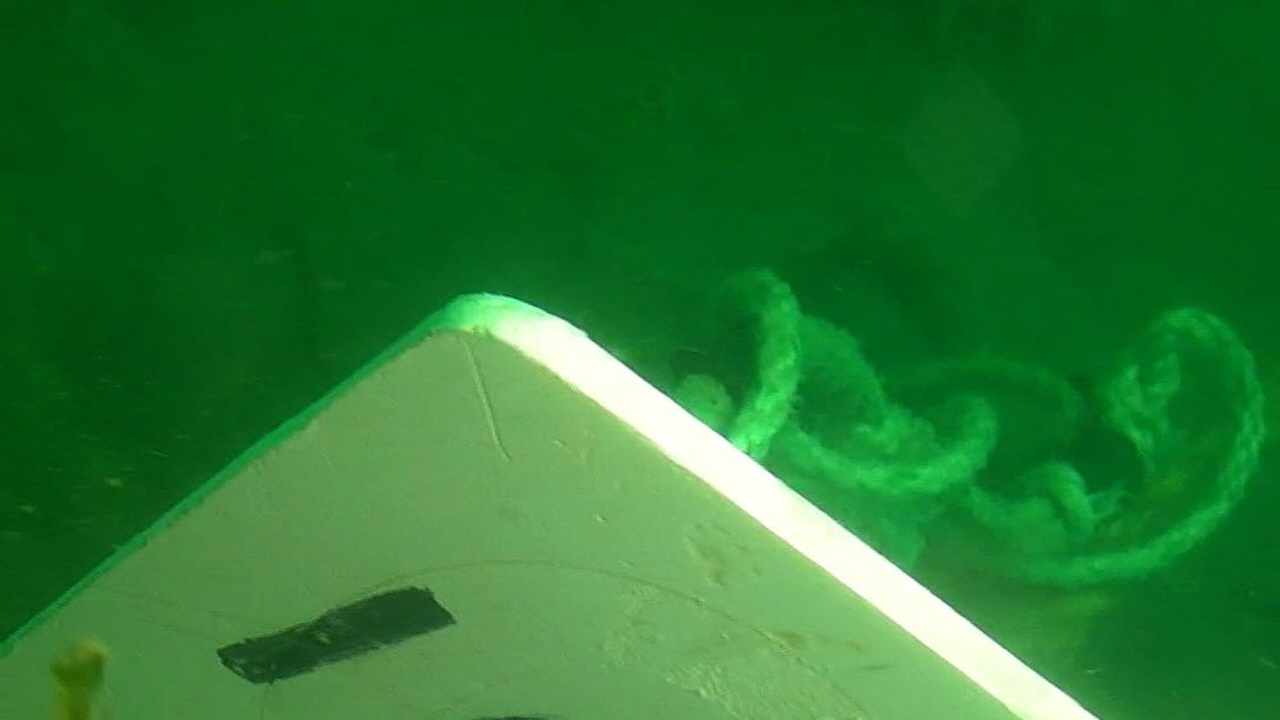bundle of ropes: (670, 264, 1268, 592)
